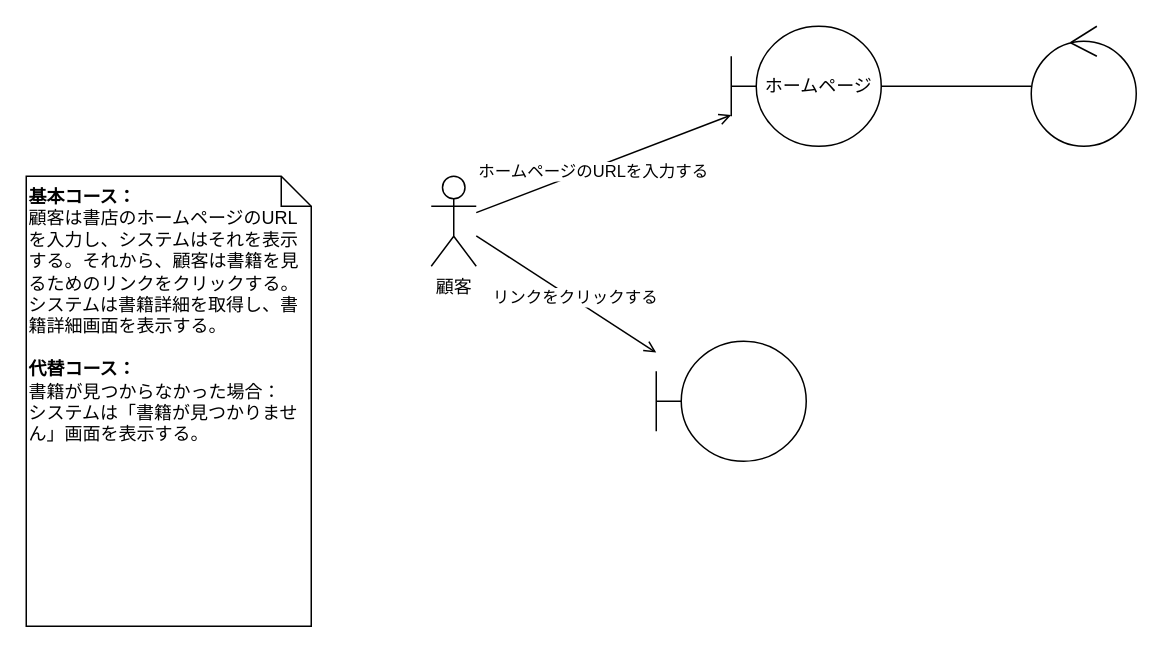
This 1163x653 diagram has some shape labels left out. Each missing label, with the centre of its shape:
書籍詳細画面を見る: (x=730, y=400)
表示する: (x=1083, y=85)
